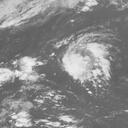cyclone: (61, 41, 111, 88)
